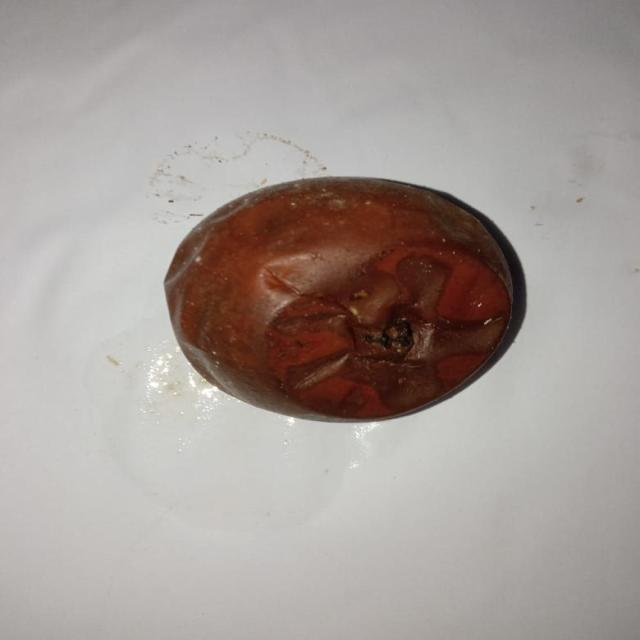rotten_apple: (162, 176, 517, 422)
